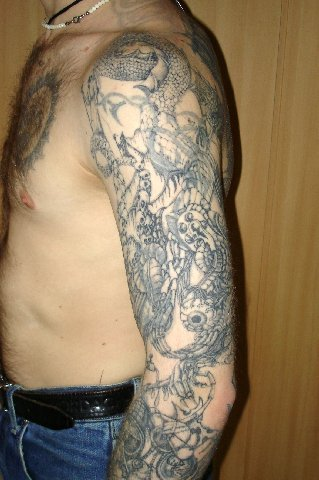tatu7_zmeya: (85, 22, 239, 343)
